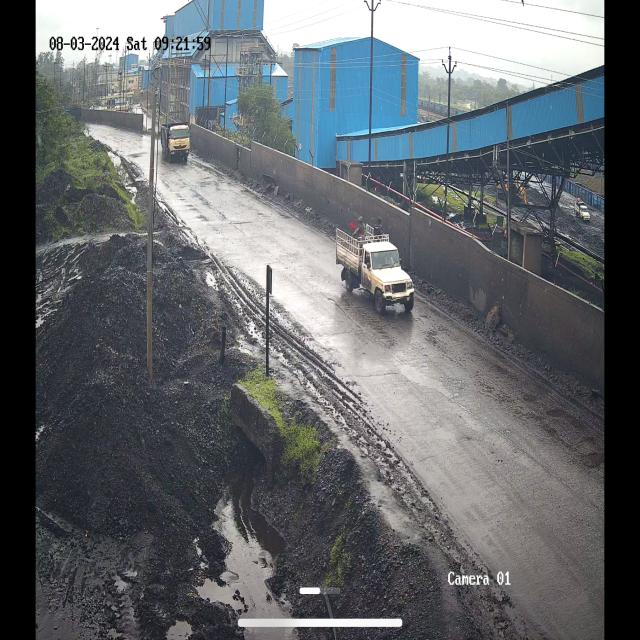dump_truck: (160, 124, 189, 162)
light_vehicle: (329, 205, 414, 318)
